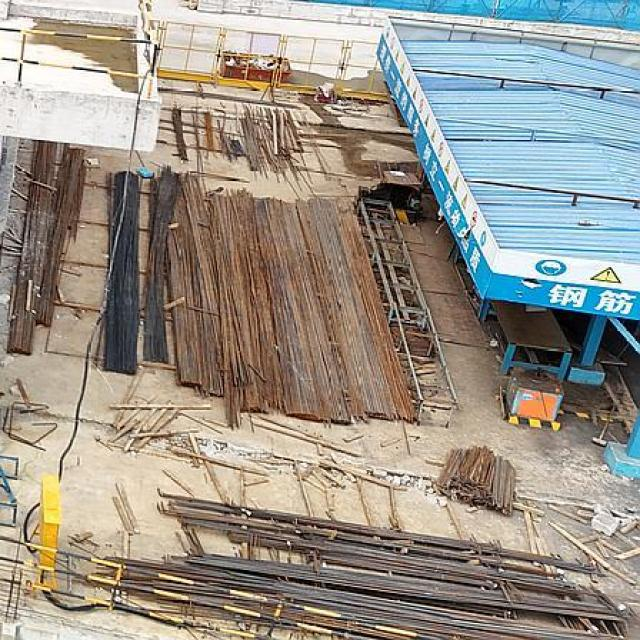edge_guardrail: (0, 535, 447, 640), (0, 0, 159, 100)
